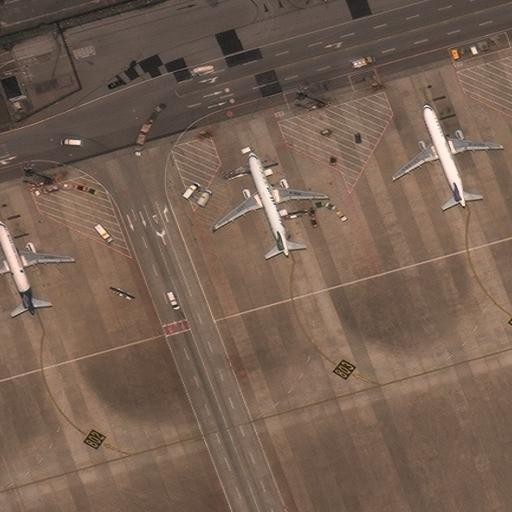Medium Civil Transport: (213, 151, 327, 257), (391, 104, 501, 207), (0, 220, 71, 315)
